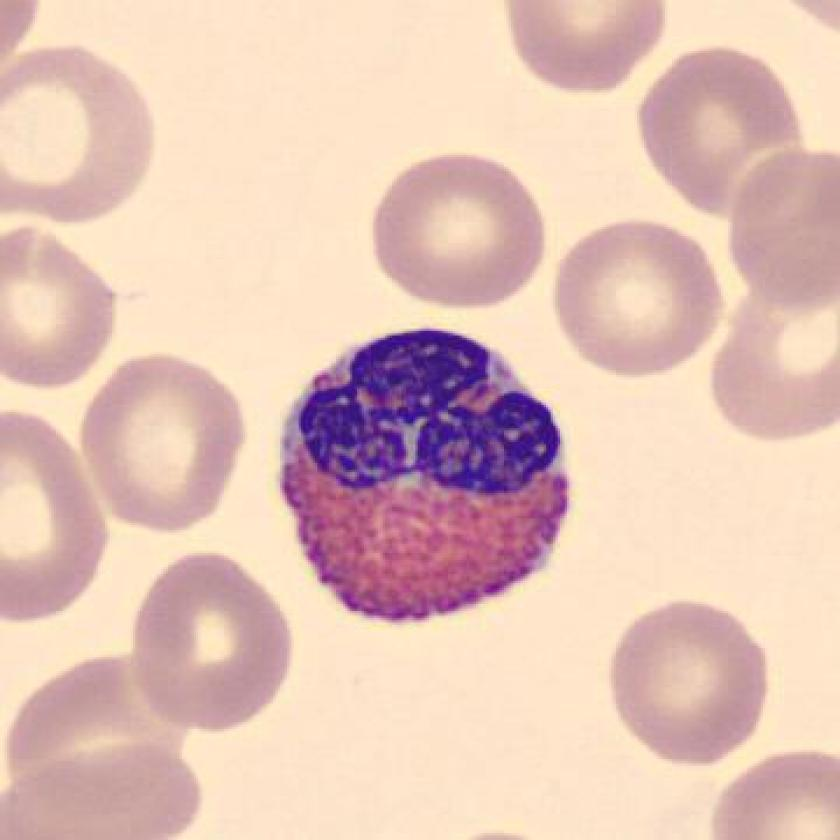eosinophil: (269, 311, 582, 640)
